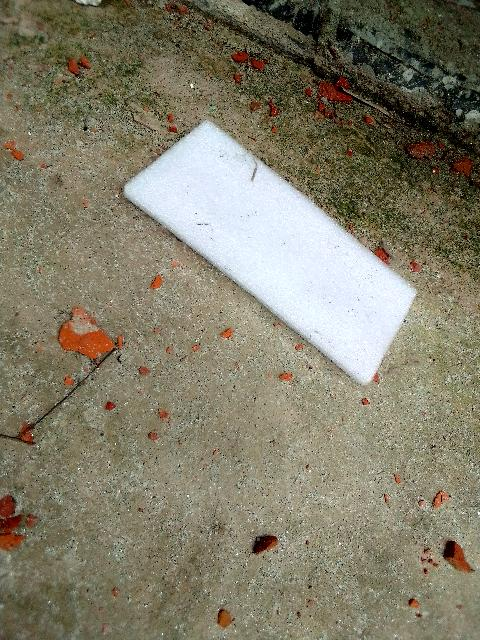cocksheet: (110, 113, 426, 392)
